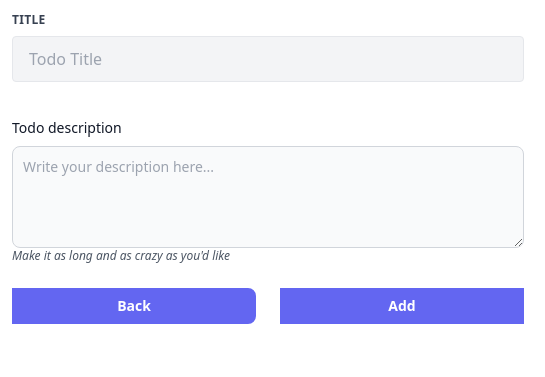
Adding a brand new todo › Form validation: When user clicks in submit › and both title and description inputs are empty
Click the button "Add".
click(402, 306)  # box [280,288,524,324]
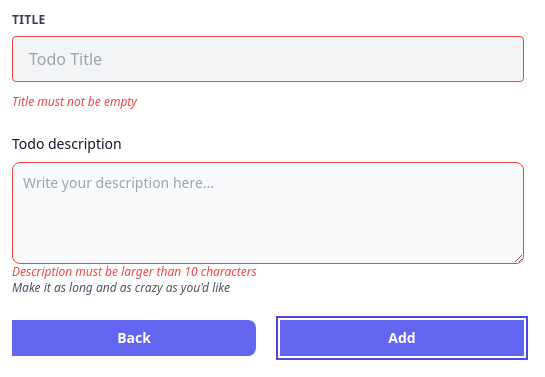
Expected: the text "Description must be larger than 10 characters" is shown, [12,263,257,280]
